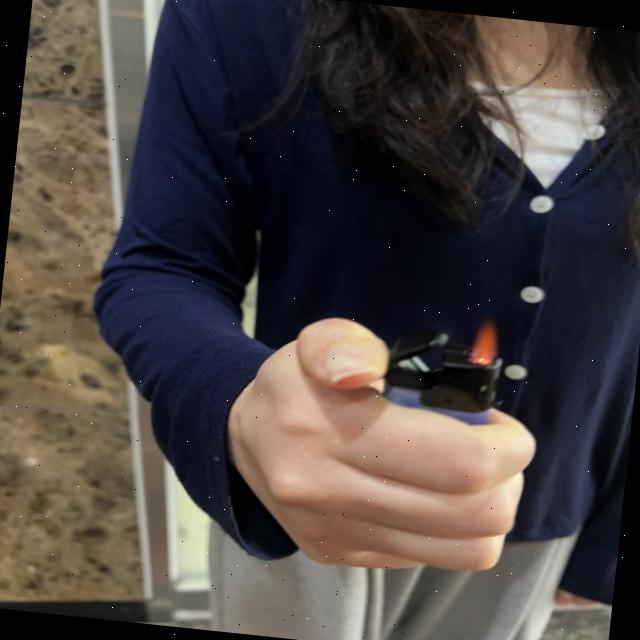fire: (469, 318, 503, 369)
